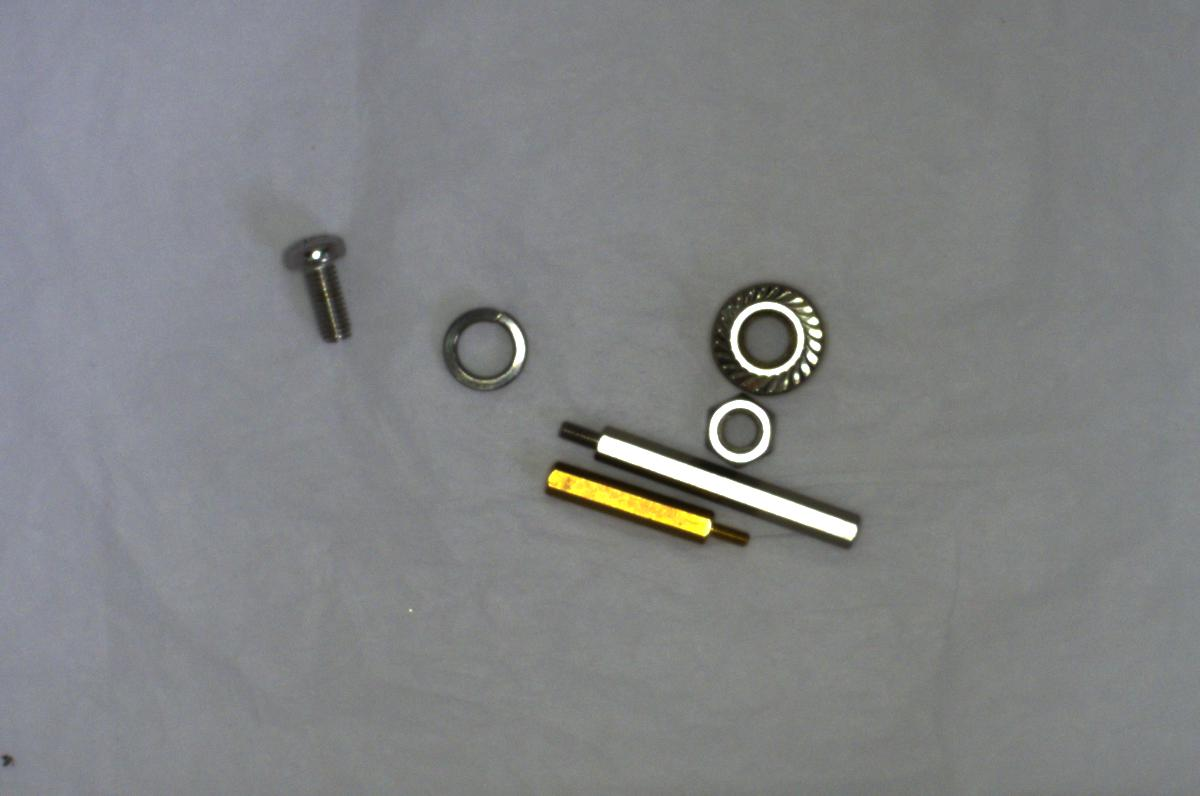Flange nut: (697, 272, 826, 399)
Hexagon nut: (699, 393, 777, 469)
Hexagon pillar: (532, 458, 753, 554)
Hexagonal steel column: (546, 415, 872, 552)
Round head screw: (282, 221, 355, 350)
Spring washer: (438, 298, 528, 393)
